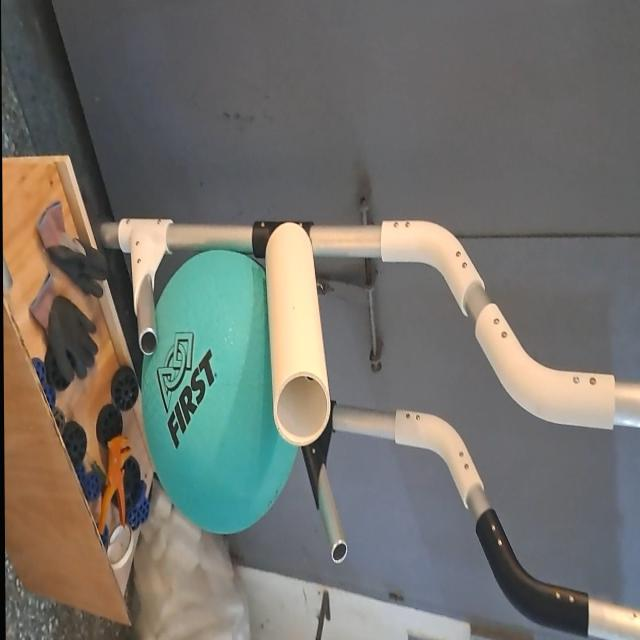ALGAE: (138, 248, 302, 542)
CORAL: (260, 215, 330, 446)
